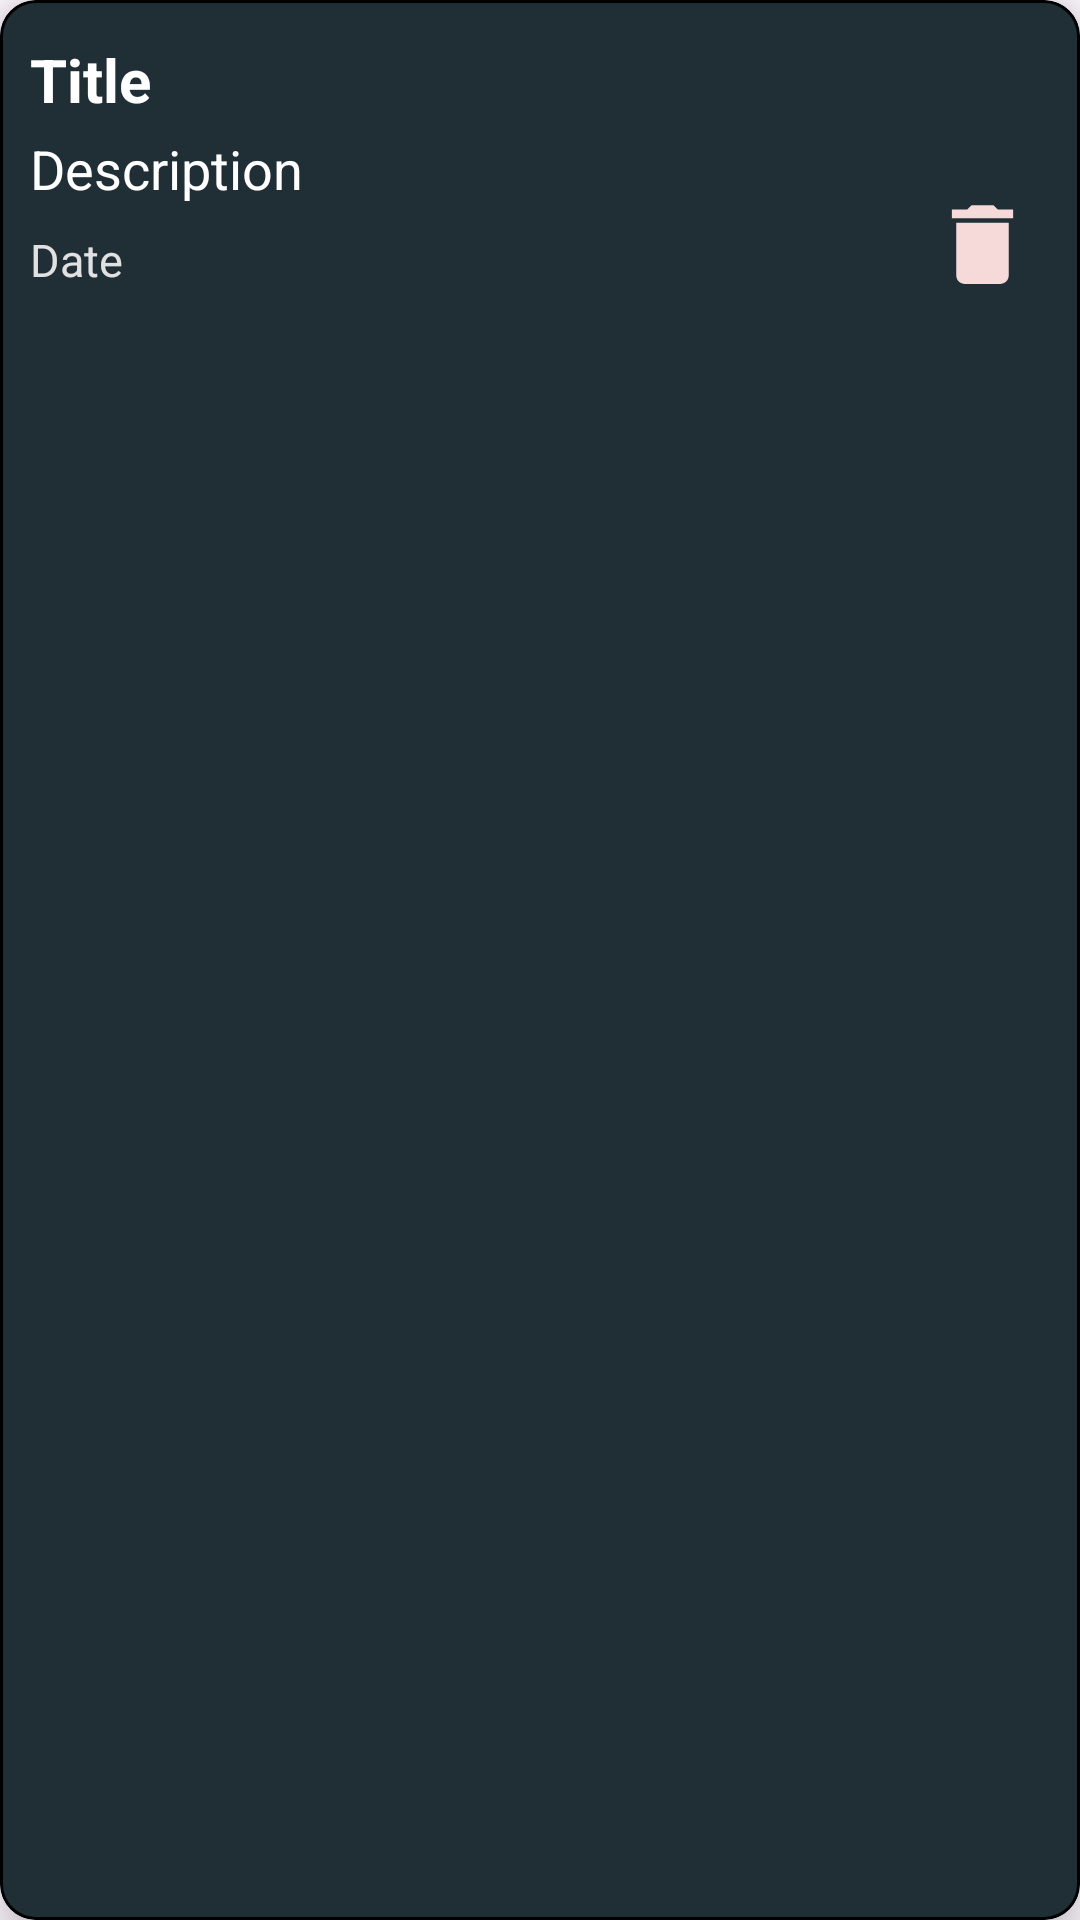

Locate icon controls on the screen. Image size 1080 × 1920, boxes as (x1, y1, x2, y2).
delete: (951, 205, 1014, 284)
